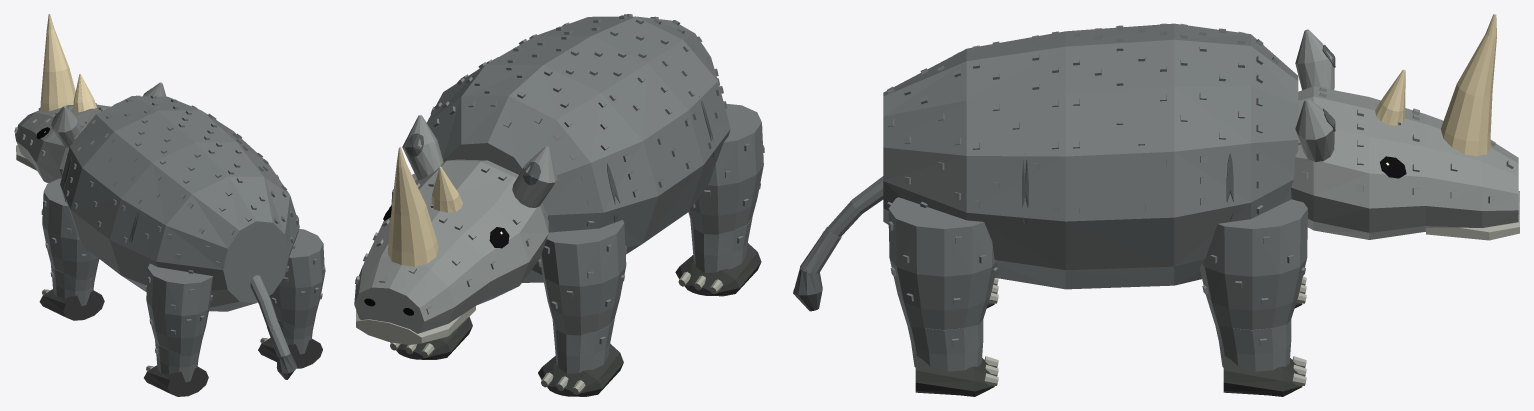
File: Rhino.fbx
3 views of the same model, side by side, from view 1: azimuth 30°, elevation 25°; view 2: azimuth 150°, elevation 25°; view 3: azimuth 270°, elevation 25° (orthographic). The views are drawn at different scales.
Parts seen in each view (by area): view 1: Import3D_Core, Import3D_Head, Import3D_LegBL, Import3D_LegBR, Import3D_LegFL, Import3D_KneeFL, Import3D_KneeBL, Import3D_KneeBR, Import3D_EarL, Import3D_Tail1, Import3D_Tail; view 2: Import3D_Core, Import3D_Head, Import3D_LegFL, Import3D_LegBL, Import3D_KneeFL, Import3D_KneeBL, Import3D_EarL, Import3D_EarR, Import3D_KneeFR; view 3: Import3D_Core, Import3D_Head, Import3D_LegBR, Import3D_LegFR, Import3D_KneeBR, Import3D_KneeFR, Import3D_EarR, Import3D_EarL, Import3D_Tail1, Import3D_Tail.
Boxes of the visible parts, x1=… form: Import3D_Core: x1=60, y1=95, x2=299, y2=311; Import3D_Head: x1=14, y1=14, x2=110, y2=183; Import3D_LegBL: x1=145, y1=263, x2=212, y2=356; Import3D_LegBR: x1=269, y1=229, x2=325, y2=328; Import3D_LegFL: x1=41, y1=178, x2=99, y2=280; Import3D_KneeFL: x1=39, y1=264, x2=104, y2=320; Import3D_KneeBL: x1=144, y1=340, x2=208, y2=396; Import3D_KneeBR: x1=258, y1=315, x2=322, y2=368; Import3D_EarL: x1=51, y1=105, x2=82, y2=147; Import3D_Tail1: x1=267, y1=323, x2=297, y2=379; Import3D_Tail: x1=250, y1=275, x2=279, y2=331; Import3D_Core: x1=416, y1=14, x2=730, y2=282; Import3D_Head: x1=354, y1=146, x2=548, y2=344; Import3D_LegFL: x1=538, y1=220, x2=626, y2=335; Import3D_LegBL: x1=688, y1=104, x2=764, y2=234; Import3D_KneeFL: x1=538, y1=318, x2=623, y2=396; Import3D_KneeBL: x1=675, y1=217, x2=761, y2=296; Import3D_EarL: x1=512, y1=146, x2=557, y2=207; Import3D_EarR: x1=402, y1=115, x2=443, y2=180; Import3D_KneeFR: x1=390, y1=316, x2=472, y2=359; Import3D_Core: x1=883, y1=23, x2=1298, y2=289; Import3D_Head: x1=1291, y1=14, x2=1519, y2=240; Import3D_LegBR: x1=888, y1=197, x2=997, y2=330; Import3D_LegFR: x1=1200, y1=199, x2=1308, y2=330; Import3D_KneeBR: x1=907, y1=319, x2=998, y2=396; Import3D_KneeFR: x1=1215, y1=319, x2=1306, y2=396; Import3D_EarR: x1=1295, y1=98, x2=1335, y2=162; Import3D_EarL: x1=1295, y1=29, x2=1335, y2=90; Import3D_Tail1: x1=793, y1=226, x2=841, y2=311; Import3D_Tail: x1=822, y1=176, x2=883, y2=237.
Bounding box in the file's own units: 214 × 265 × 522.
1 material, 1 textured.
